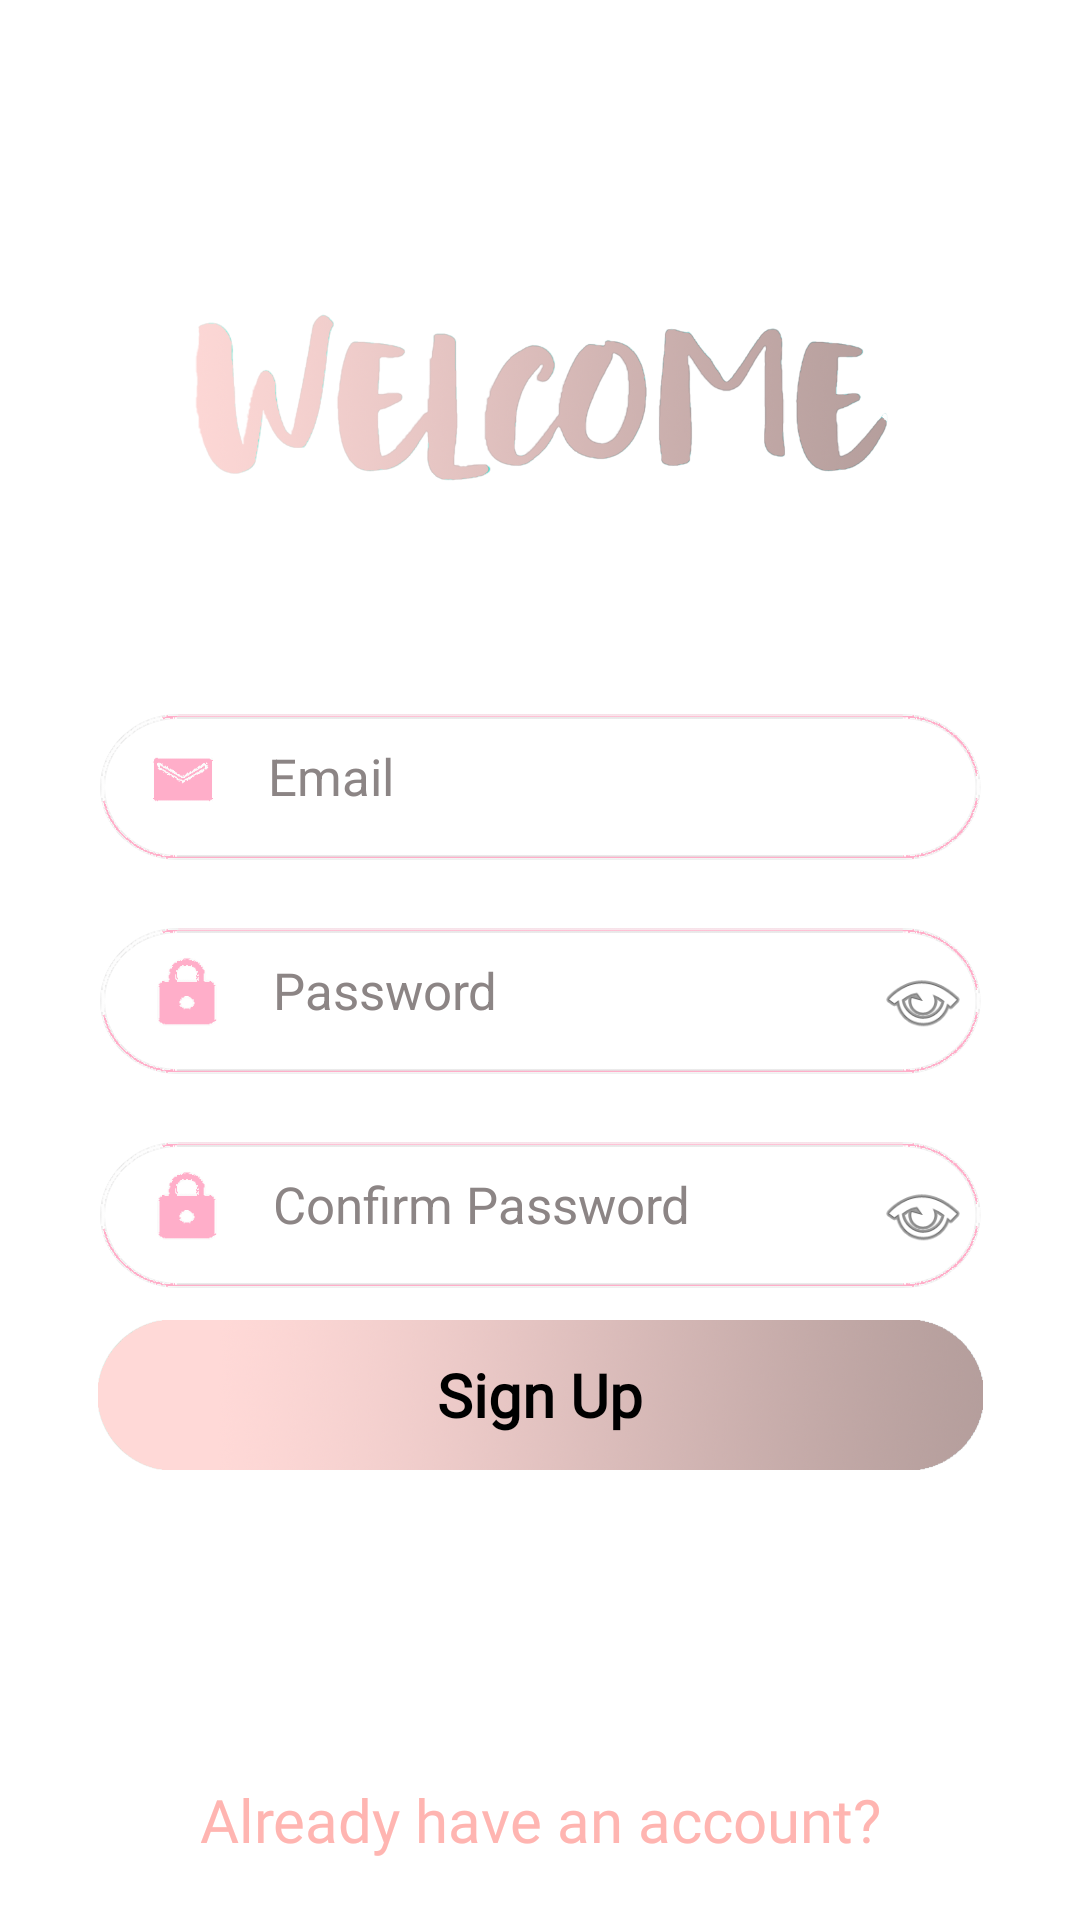

Icons on this 1080x1920 Android screen, each with the point to tap as (x=x, y=y):
view: (x=923, y=1003), (x=923, y=1217)
